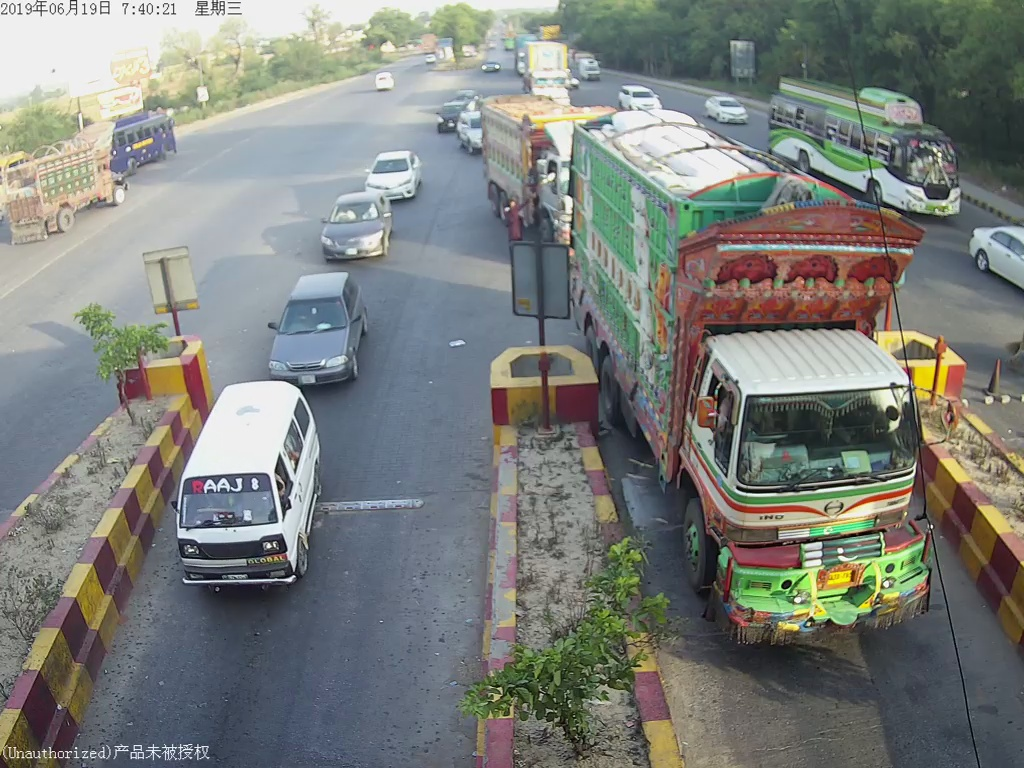Cat-1: (175, 378, 328, 598), (261, 283, 370, 379), (321, 188, 397, 261), (367, 151, 417, 196)
Cat-4: (567, 119, 939, 656)
